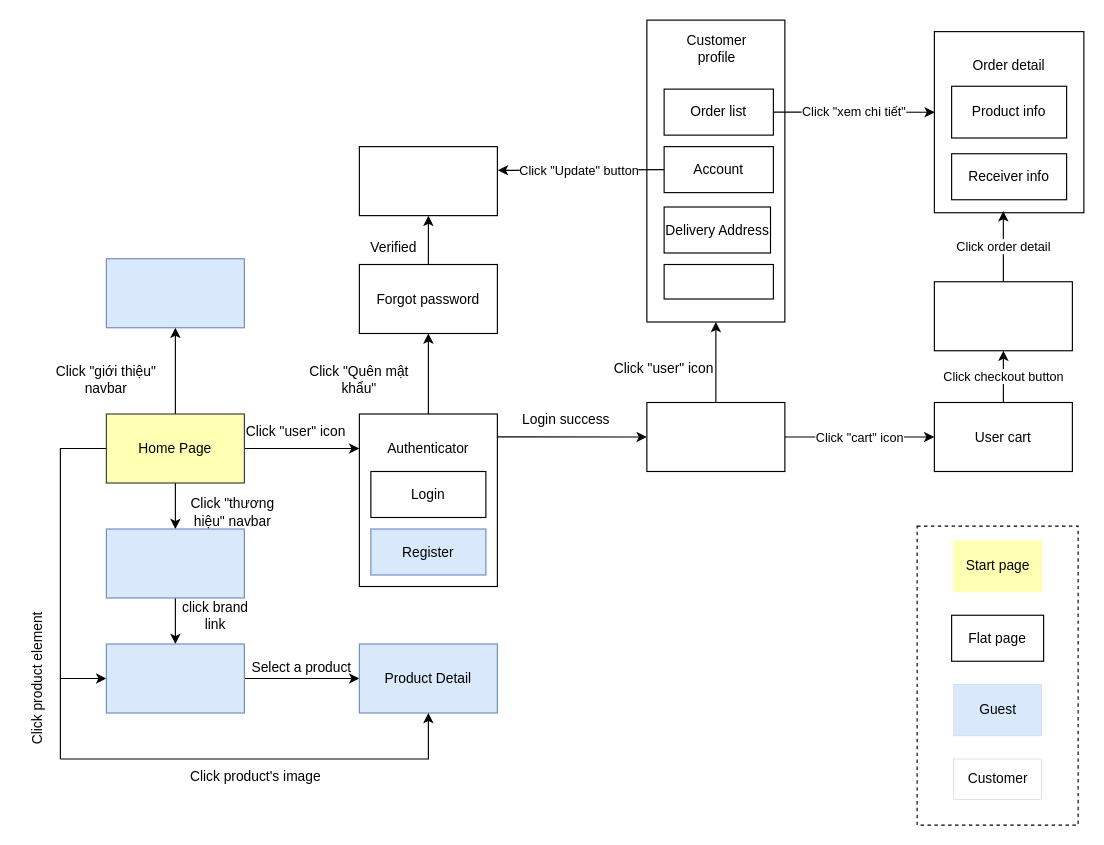
This 1104x845 diagram has some shape labels left out. Each missing label, with the box of its shape:
Brand: (105, 528, 244, 598)
Change password: (358, 145, 497, 216)
Checkout: (933, 281, 1072, 351)
Introduce: (105, 258, 244, 328)
Logout: (663, 263, 773, 299)
Post Login: (646, 401, 785, 471)
Product: (105, 643, 244, 713)
